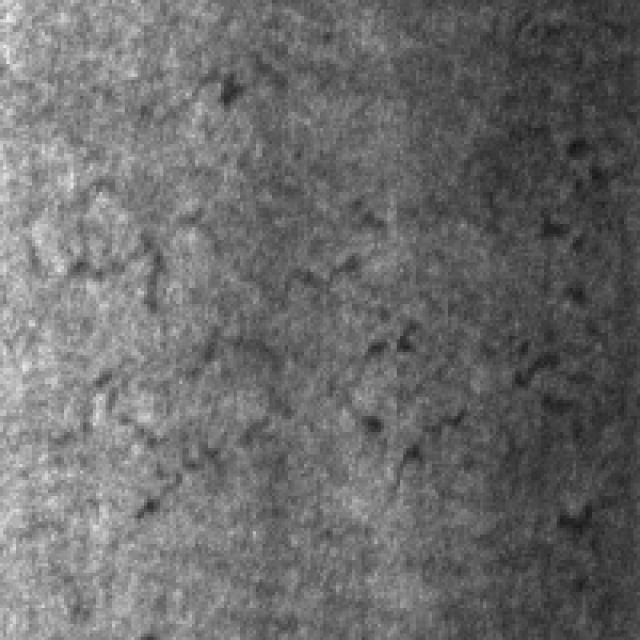crazing: (10, 170, 467, 512), (502, 73, 637, 550)
